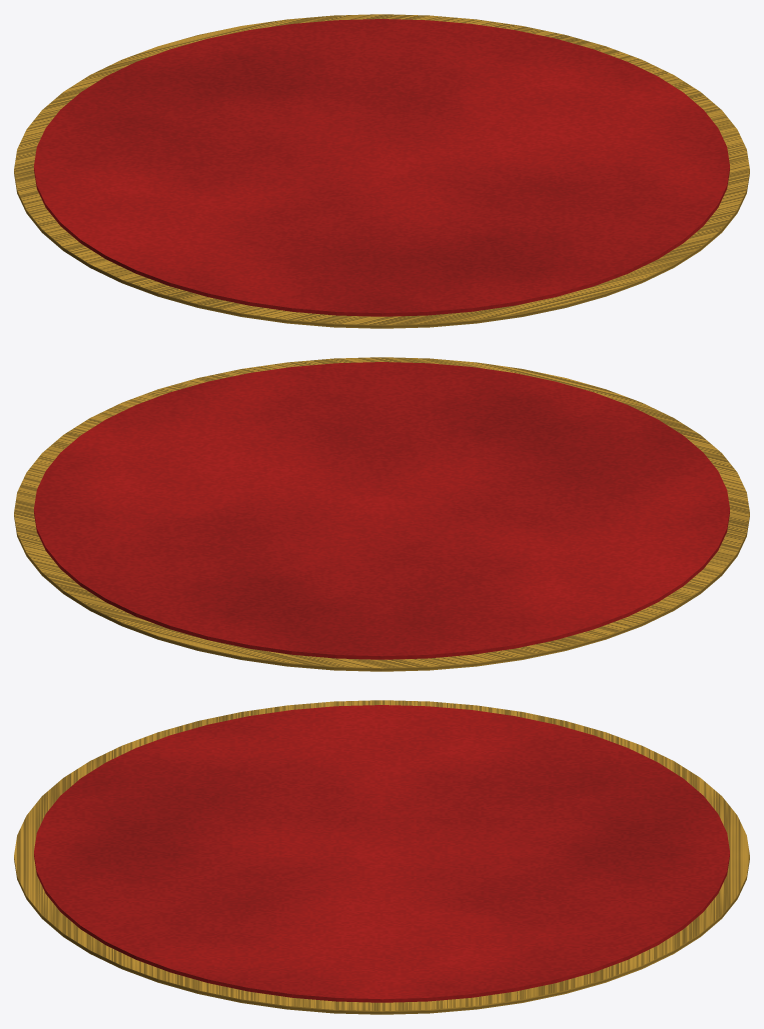
The model's file is table_cloth.fbx.
3 renders of one model, top to bottom at view 1: azimuth 30°, elevation 25°; view 2: azimuth 150°, elevation 25°; view 3: azimuth 270°, elevation 25°, orthographic.
Parts seen in each view (by area): view 1: table_cloth; view 2: table_cloth; view 3: table_cloth.
Boxes of the visible parts, x1,y1,x2,y2 form: table_cloth: [14, 14, 749, 328]; table_cloth: [14, 357, 749, 671]; table_cloth: [14, 700, 749, 1014].
Size of the model in its own units: 148 by 1.6 by 148.
